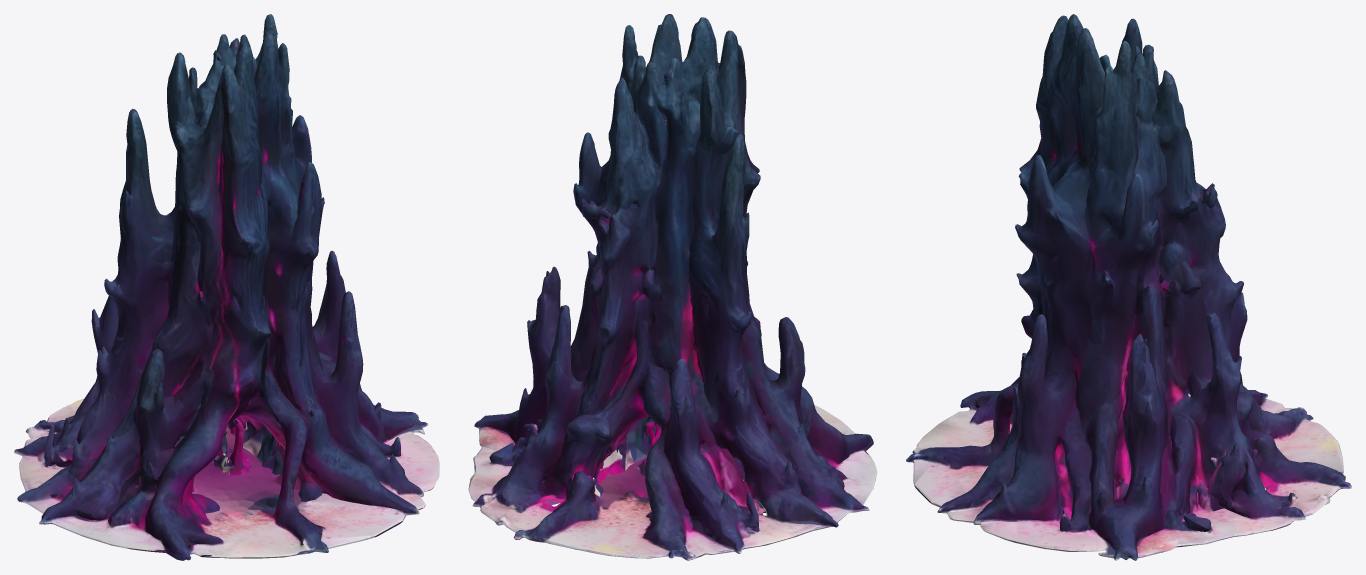
Rendered from root-southeast-generated-2026-04-19T17-16-26-636Z.medium.glb.
3 renders of one model, left to right at view 1: azimuth 30°, elevation 25°; view 2: azimuth 150°, elevation 25°; view 3: azimuth 270°, elevation 25°, orthographic. The views are drawn at different scales.
Visible parts, largest first — view 1: temp_mesh.ply; view 2: temp_mesh.ply; view 3: temp_mesh.ply.
Part boxes in pixels (left/top/right/bottom): temp_mesh.ply: left=14, top=14, right=439, bottom=560; temp_mesh.ply: left=468, top=14, right=877, bottom=560; temp_mesh.ply: left=906, top=14, right=1351, bottom=560.
Size of the model in its own units: 1.8 by 1.97 by 1.77.
Materials: 1 (1 with a texture image).
